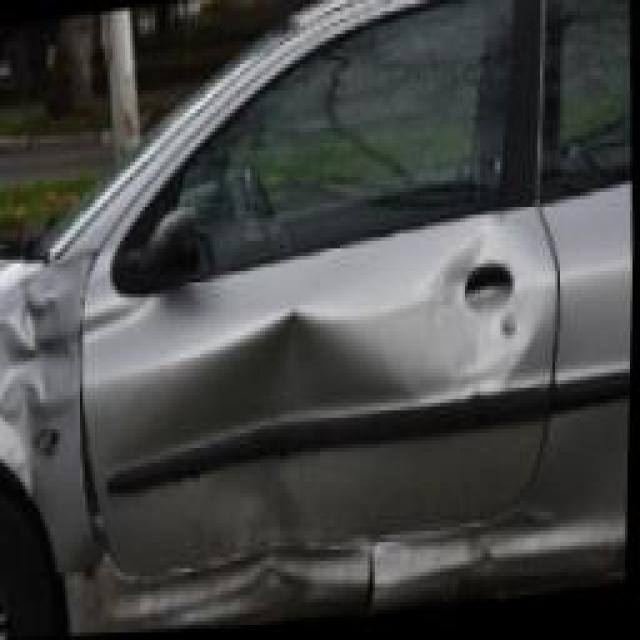Door: (85, 215, 550, 600)
Fender: (0, 260, 100, 513)
